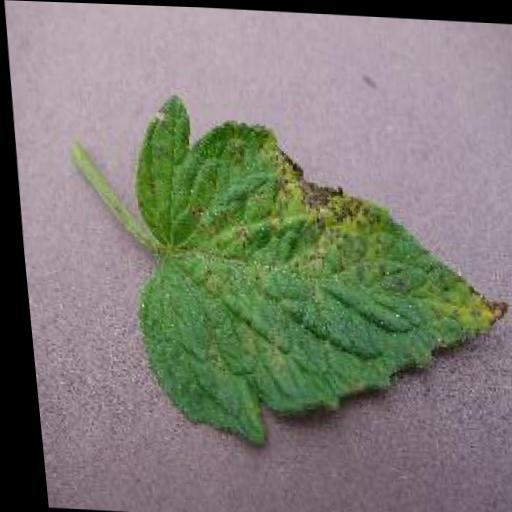Septoria: (115, 92, 512, 457)
